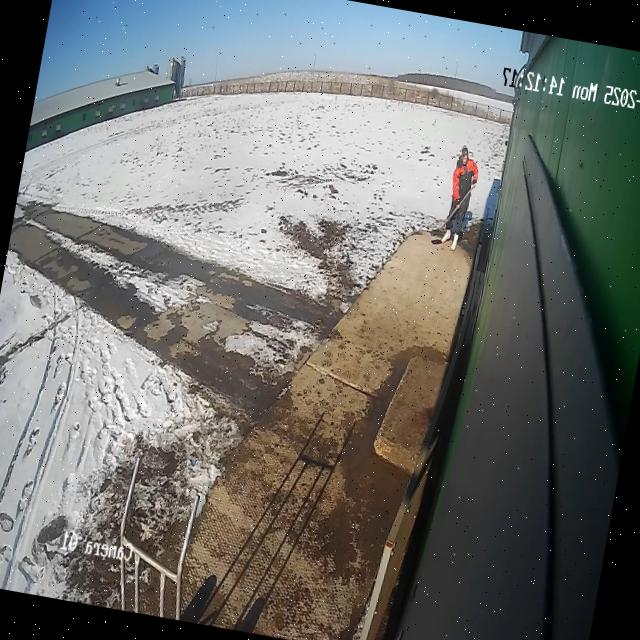Red uniform: (441, 146, 478, 251)
